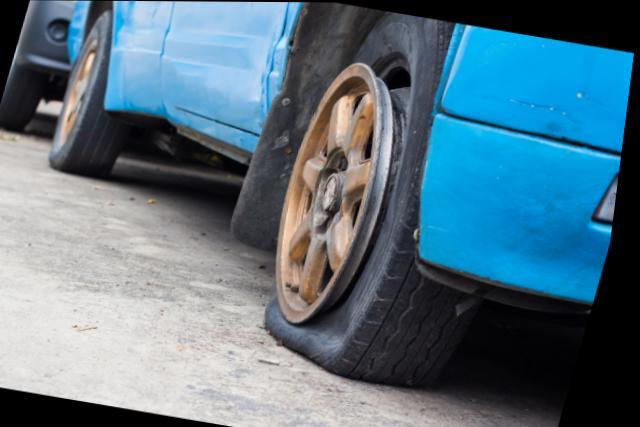tire flat: (271, 11, 491, 390)
